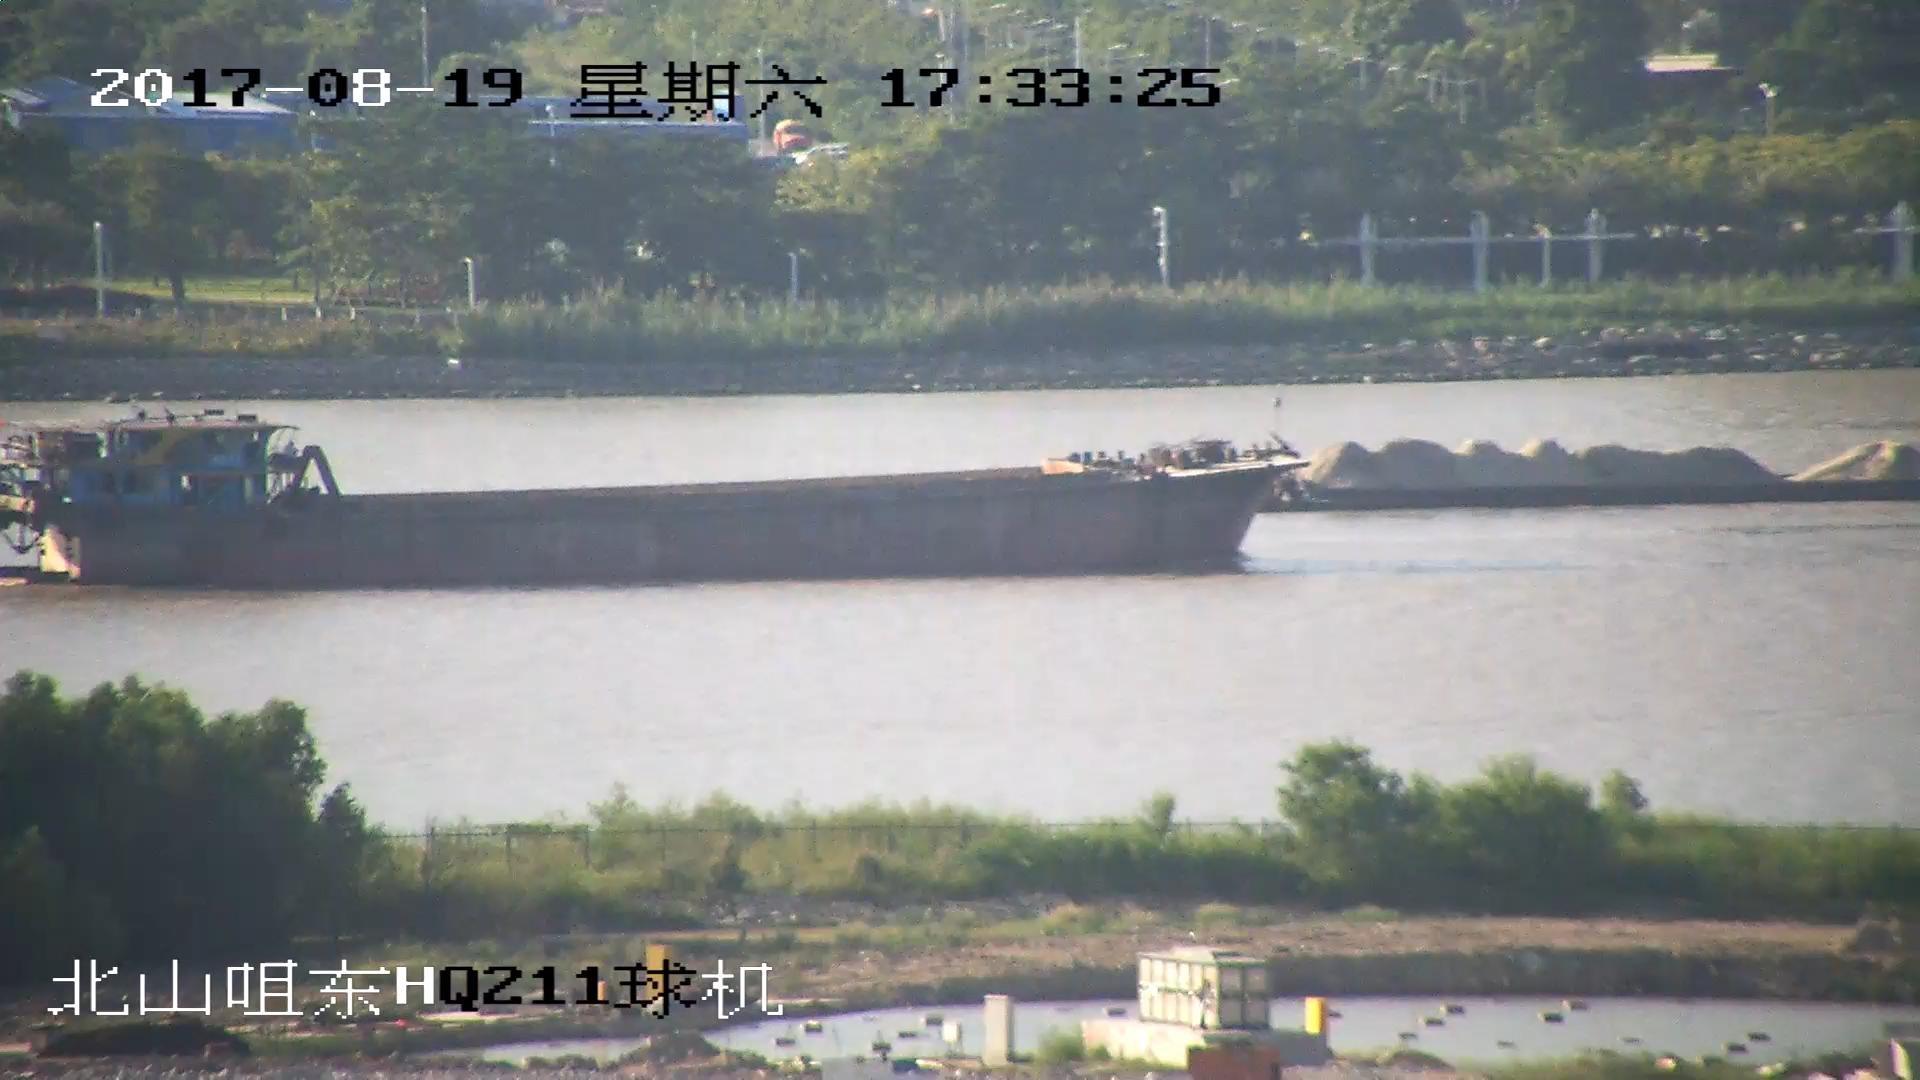bulk cargo carrier: (1, 410, 1299, 588)
ore carrier: (1257, 438, 1920, 512)
